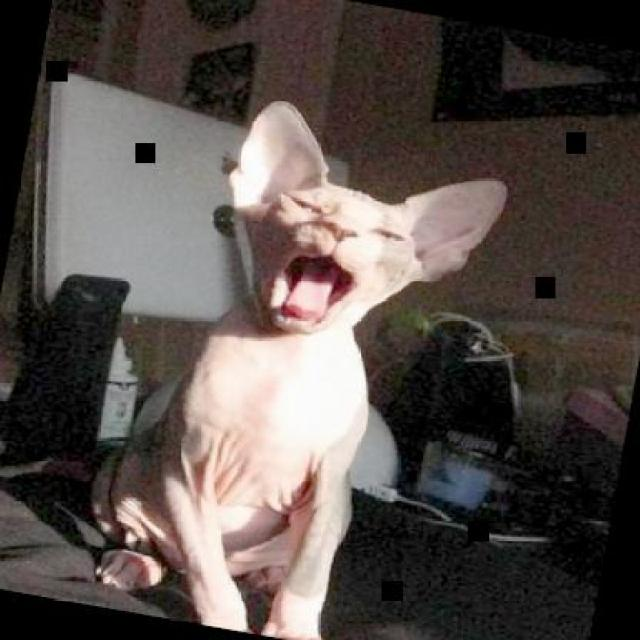cat: (71, 79, 518, 638)
